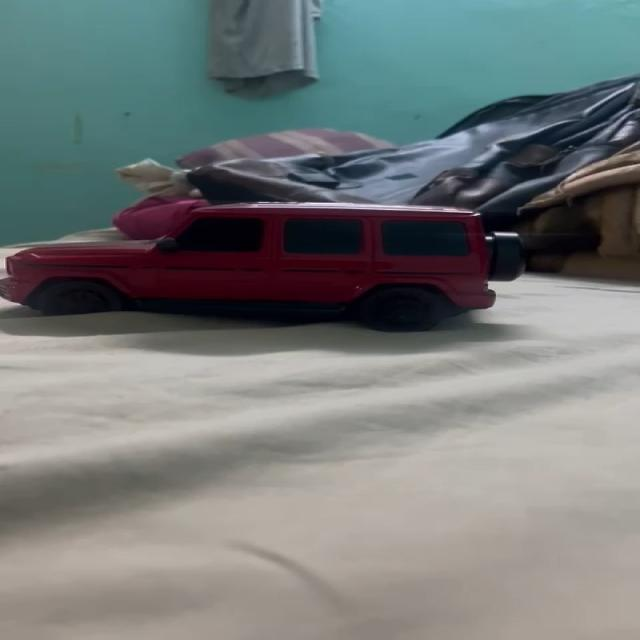light_vehicle: (0, 199, 524, 330)
